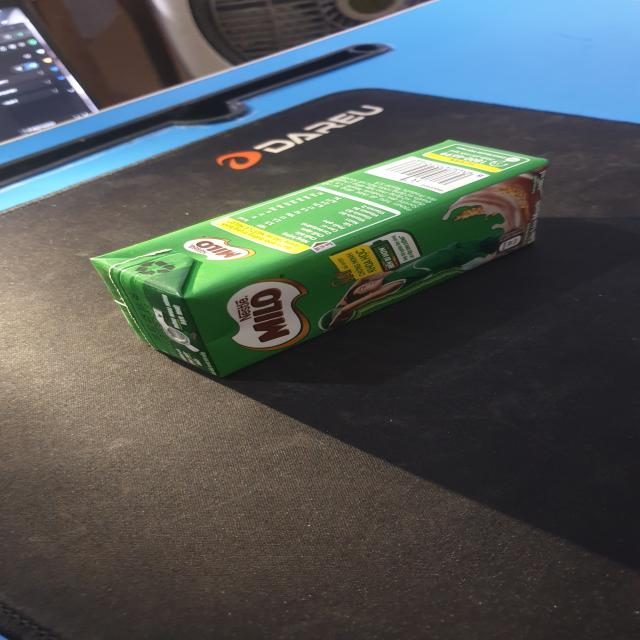Milo: (87, 138, 553, 383)
